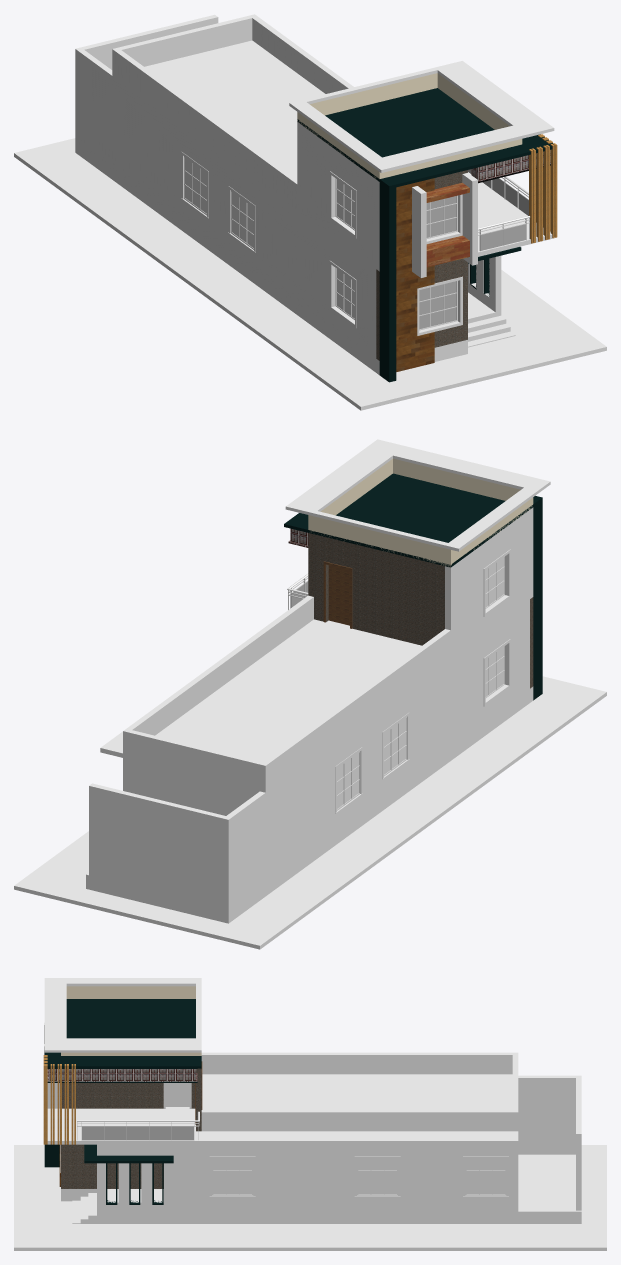
The picture shows the model from 3 angles, top to bottom: view 1: azimuth 30°, elevation 25°; view 2: azimuth 150°, elevation 25°; view 3: azimuth 270°, elevation 25°; orthographic projection. The views are drawn at different scales.
Visible parts, largest first — view 1: Box001, Basic Wall Generic - 8" [184203], Roof Soffit Generic - 4" 2 [186306], Roof Soffit Generic - 4" [186842], Roof Soffit Generic - 4" [188004], Basic Wall Generic - 8" [186467], Basic Wall Generic - 8" [186705], Floor Generic - 12" 2 [186123], Air Terminals 6 Air Terminals 6 [190493], Air Terminals 1 Air Terminals 1 [187243], Air Terminals 3 Air Terminals 3 [188482], Basic Wall Generic - 8" [186744] (+17 smaller); view 2: Basic Wall Generic - 8" [184203], Box001, Roof Soffit Generic - 4" 2 [186306], Basic Wall Generic - 8" [184228], Basic Wall Generic - 8" [186520], Roof Soffit Generic - 4" [186842], Roof Soffit Generic - 4" [188004], Floor Generic - 12" 2 [186123], Basic Wall Generic - 8" [186467], Basic Wall Generic - 8" [186705], Basic Wall Generic - 8" [186770], Basic Wall Generic - 8" [186744] (+11 smaller); view 3: Box001, Basic Wall Generic - 8" [184262], Roof Soffit Generic - 4" 2 [186306], Floor Generic - 12" 2 [186123], Roof Soffit Generic - 4" [186842], Basic Wall Generic - 8" [186705], Basic Wall Generic - 8" [186770], Roof Soffit Generic - 4" [188004], Basic Wall Generic - 8" [184203], Basic Wall Generic - 8" [186549], Air Terminals 5 Air Terminals 5 [189788], Air Terminals 2 Air Terminals 2 [187696] (+14 smaller).
Part boxes in pixels (bbox=[...]): Box001: bbox=[14, 138, 606, 410]; Basic Wall Generic - 8" [184203]: bbox=[75, 47, 376, 358]; Roof Soffit Generic - 4" 2 [186306]: bbox=[112, 40, 553, 270]; Roof Soffit Generic - 4" [186842]: bbox=[297, 88, 552, 188]; Roof Soffit Generic - 4" [188004]: bbox=[289, 61, 554, 172]; Basic Wall Generic - 8" [186467]: bbox=[297, 122, 379, 271]; Basic Wall Generic - 8" [186705]: bbox=[112, 47, 297, 210]; Floor Generic - 12" 2 [186123]: bbox=[75, 138, 501, 374]; Air Terminals 6 Air Terminals 6 [190493]: bbox=[396, 178, 489, 371]; Air Terminals 1 Air Terminals 1 [187243]: bbox=[412, 173, 477, 277]; Air Terminals 3 Air Terminals 3 [188482]: bbox=[379, 182, 396, 382]; Basic Wall Generic - 8" [186744]: bbox=[118, 14, 257, 66]; Basic Wall Generic - 8" [184203]: bbox=[223, 599, 529, 909]; Box001: bbox=[14, 676, 606, 949]; Roof Soffit Generic - 4" 2 [186306]: bbox=[100, 593, 533, 792]; Basic Wall Generic - 8" [184228]: bbox=[89, 783, 225, 907]; Basic Wall Generic - 8" [186520]: bbox=[308, 533, 444, 645]; Roof Soffit Generic - 4" [186842]: bbox=[284, 473, 542, 567]; Roof Soffit Generic - 4" [188004]: bbox=[285, 439, 550, 551]; Floor Generic - 12" 2 [186123]: bbox=[86, 686, 533, 923]; Basic Wall Generic - 8" [186467]: bbox=[445, 507, 533, 656]; Basic Wall Generic - 8" [186705]: bbox=[260, 629, 450, 792]; Basic Wall Generic - 8" [186770]: bbox=[126, 595, 313, 735]; Basic Wall Generic - 8" [186744]: bbox=[123, 729, 262, 790]; Box001: bbox=[14, 1145, 606, 1250]; Basic Wall Generic - 8" [184262]: bbox=[97, 1144, 512, 1211]; Roof Soffit Generic - 4" 2 [186306]: bbox=[47, 1074, 518, 1144]; Floor Generic - 12" 2 [186123]: bbox=[61, 1154, 581, 1223]; Roof Soffit Generic - 4" [186842]: bbox=[44, 999, 201, 1068]; Basic Wall Generic - 8" [186705]: bbox=[201, 1052, 518, 1074]; Basic Wall Generic - 8" [186770]: bbox=[201, 1110, 512, 1131]; Roof Soffit Generic - 4" [188004]: bbox=[44, 978, 201, 1052]; Basic Wall Generic - 8" [184203]: bbox=[518, 1075, 581, 1154]; Basic Wall Generic - 8" [186549]: bbox=[62, 1083, 195, 1108]; Air Terminals 5 Air Terminals 5 [189788]: bbox=[47, 1068, 197, 1082]; Air Terminals 2 Air Terminals 2 [187696]: bbox=[43, 1055, 75, 1144].
Size of what is drawn, in the model's own units: 8.77 by 7.42 by 21.41.
30 materials, 6 textured.
